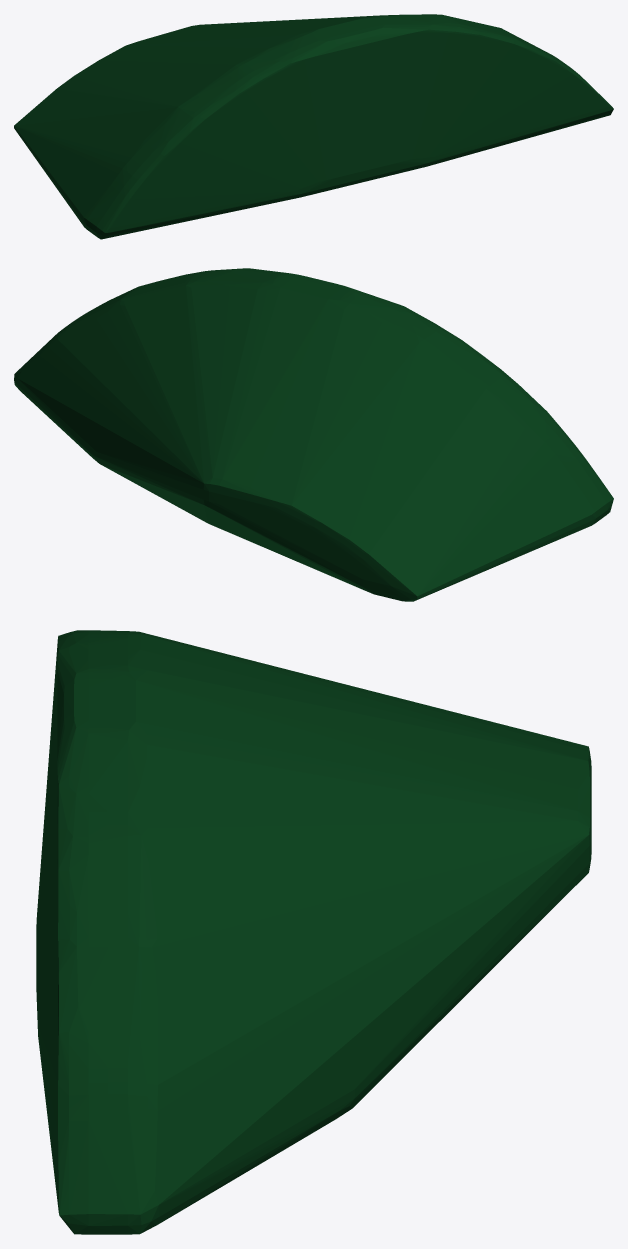
File: right_hip_yaw_link_part_25.obj
3 views of the same model, one above another, from view 1: azimuth 30°, elevation 25°; view 2: azimuth 150°, elevation 25°; view 3: azimuth 270°, elevation 25° (orthographic). The views are drawn at different scales.
Bounding box in the file's own units: 0.0874 × 0.0234 × 0.041.
